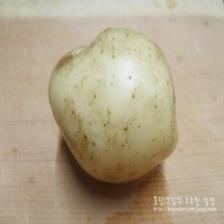Potato: (46, 25, 184, 188)
